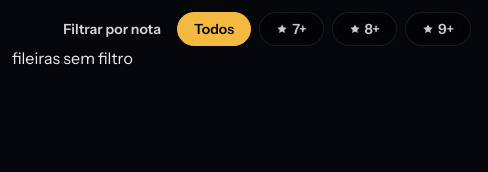
Test: HomeGenreRows › se o servidor falha, avisa em vez de quebrar a página
Step 1. Click the button "7+" → (291, 29), box [259,12,324,46]
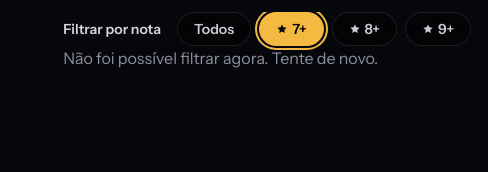
Expected: the text "Não foi possível filtrar agora. Tente de novo." is shown, [63,48,378,68]
